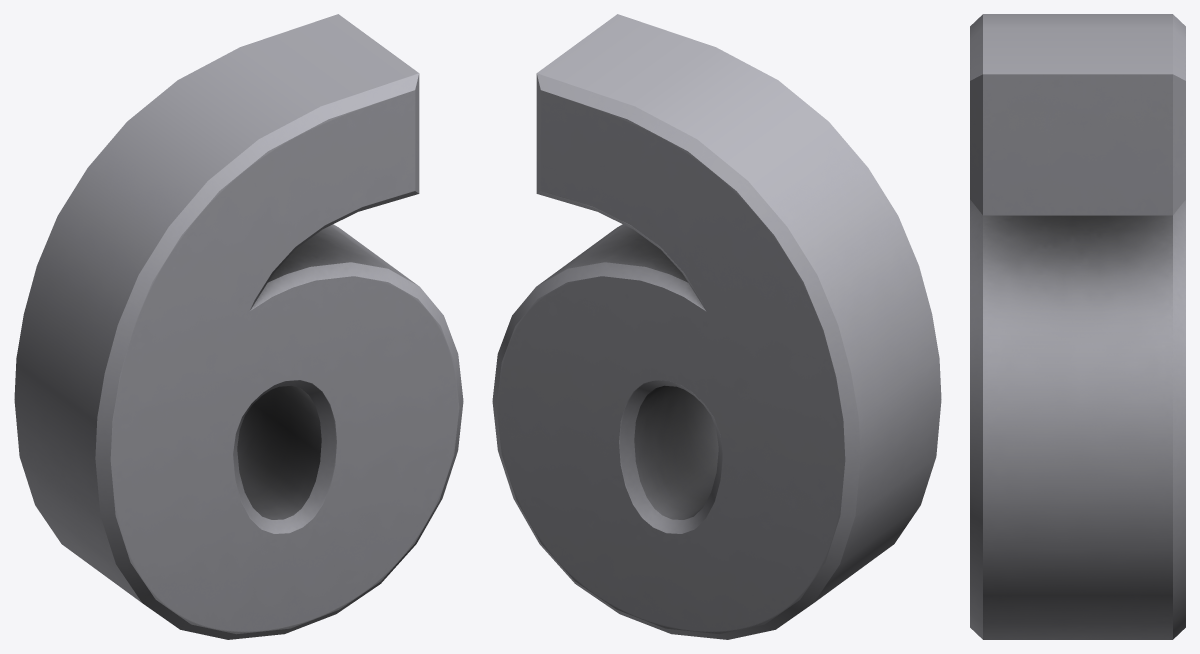
File: 6_static.fbx
3 renders of one model, left to right at view 1: azimuth 30°, elevation 25°; view 2: azimuth 150°, elevation 25°; view 3: azimuth 270°, elevation 25°, orthographic. The views are drawn at different scales.
Parts seen in each view (by area): view 1: 6_static; view 2: 6_static; view 3: 6_static.
Boxes of the visible parts, bbox=[...] form: 6_static: bbox=[14, 14, 463, 639]; 6_static: bbox=[492, 14, 941, 639]; 6_static: bbox=[970, 14, 1185, 639].
Bounding box in the file's own units: 76.19 × 104 × 33.
